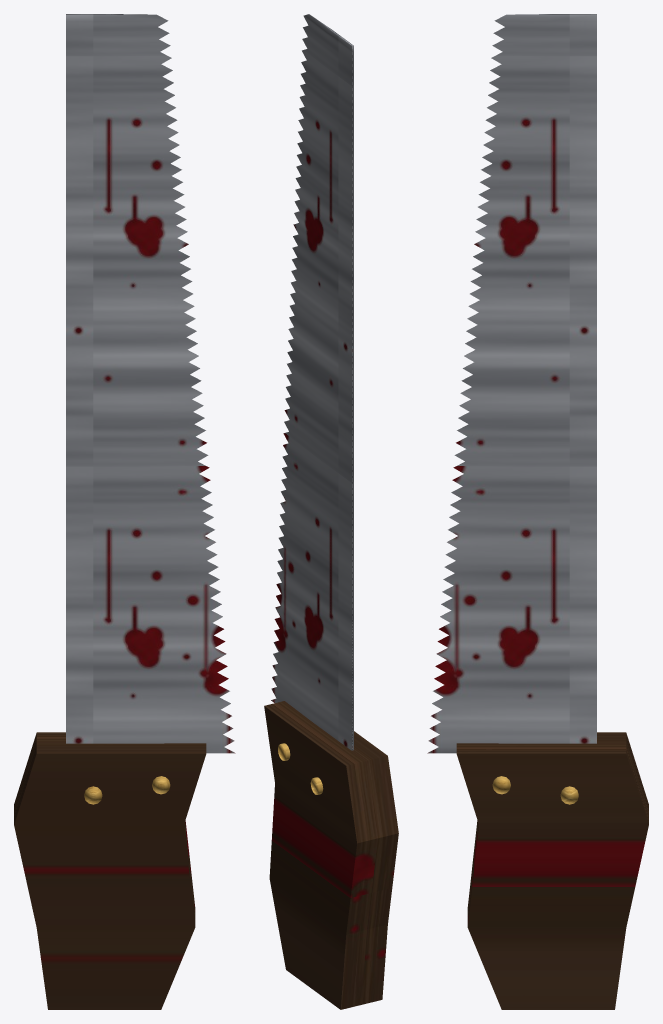
Rendered from 骨ノコギリ_bonesaw.glb.
3 views of the same model, side by side, from view 1: azimuth 90°, elevation 25°; view 2: azimuth 210°, elevation 25°; view 3: azimuth 270°, elevation 25° (orthographic). The views are drawn at different scales.
Visible parts, largest first — view 1: bonesaw; view 2: bonesaw; view 3: bonesaw.
Part boxes in pixels (<box>): bonesaw: <box>14,14,235,1009</box>; bonesaw: <box>264,14,398,1009</box>; bonesaw: <box>427,14,648,1009</box>.
Size of the model in its own units: 0.026 by 0.48 by 0.098.
Materials: 3 (3 with a texture image).
